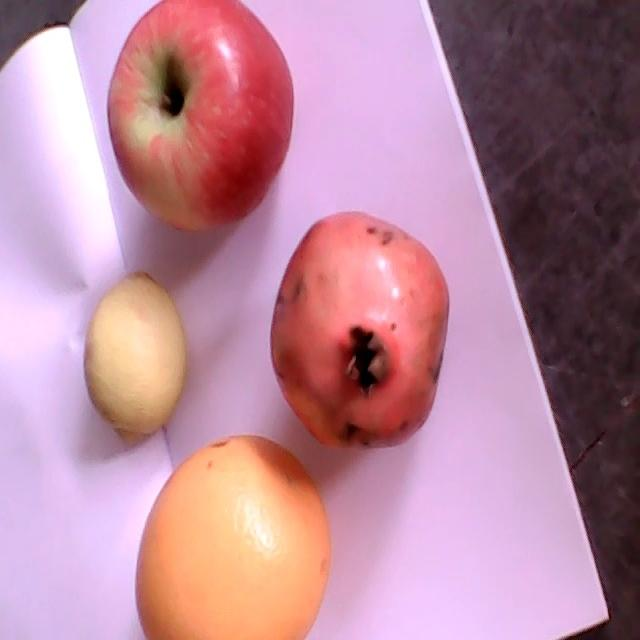apple: (105, 0, 294, 235)
lemon: (84, 271, 189, 452)
orange: (134, 434, 331, 639)
pomegranate: (273, 210, 449, 452)
